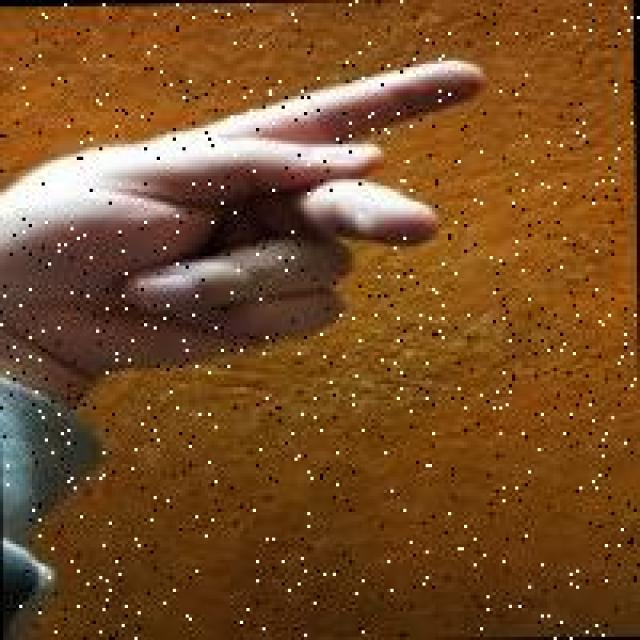K: (2, 45, 500, 390)
